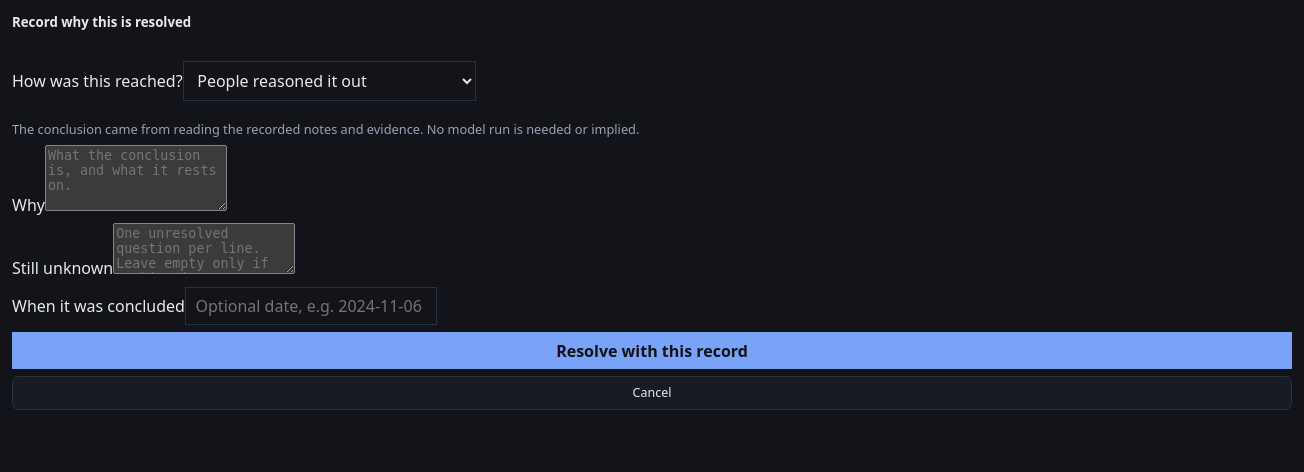
Scenario: the resolution form › asks for the exception only when that is the basis
Expected: the field labelled "What the exception is" is not shown
Select "Closing without a conclusion" in the dropdown labelled "How was this reached?" at (329,81), box [183,60,476,101]
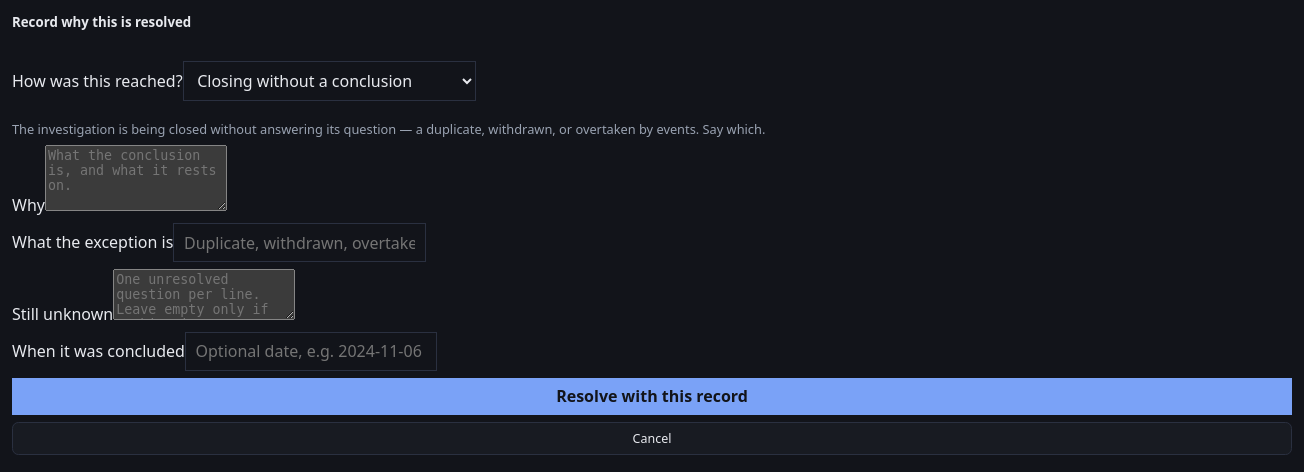
Expected: the field labelled "What the exception is" is shown, [173,224,426,262]
